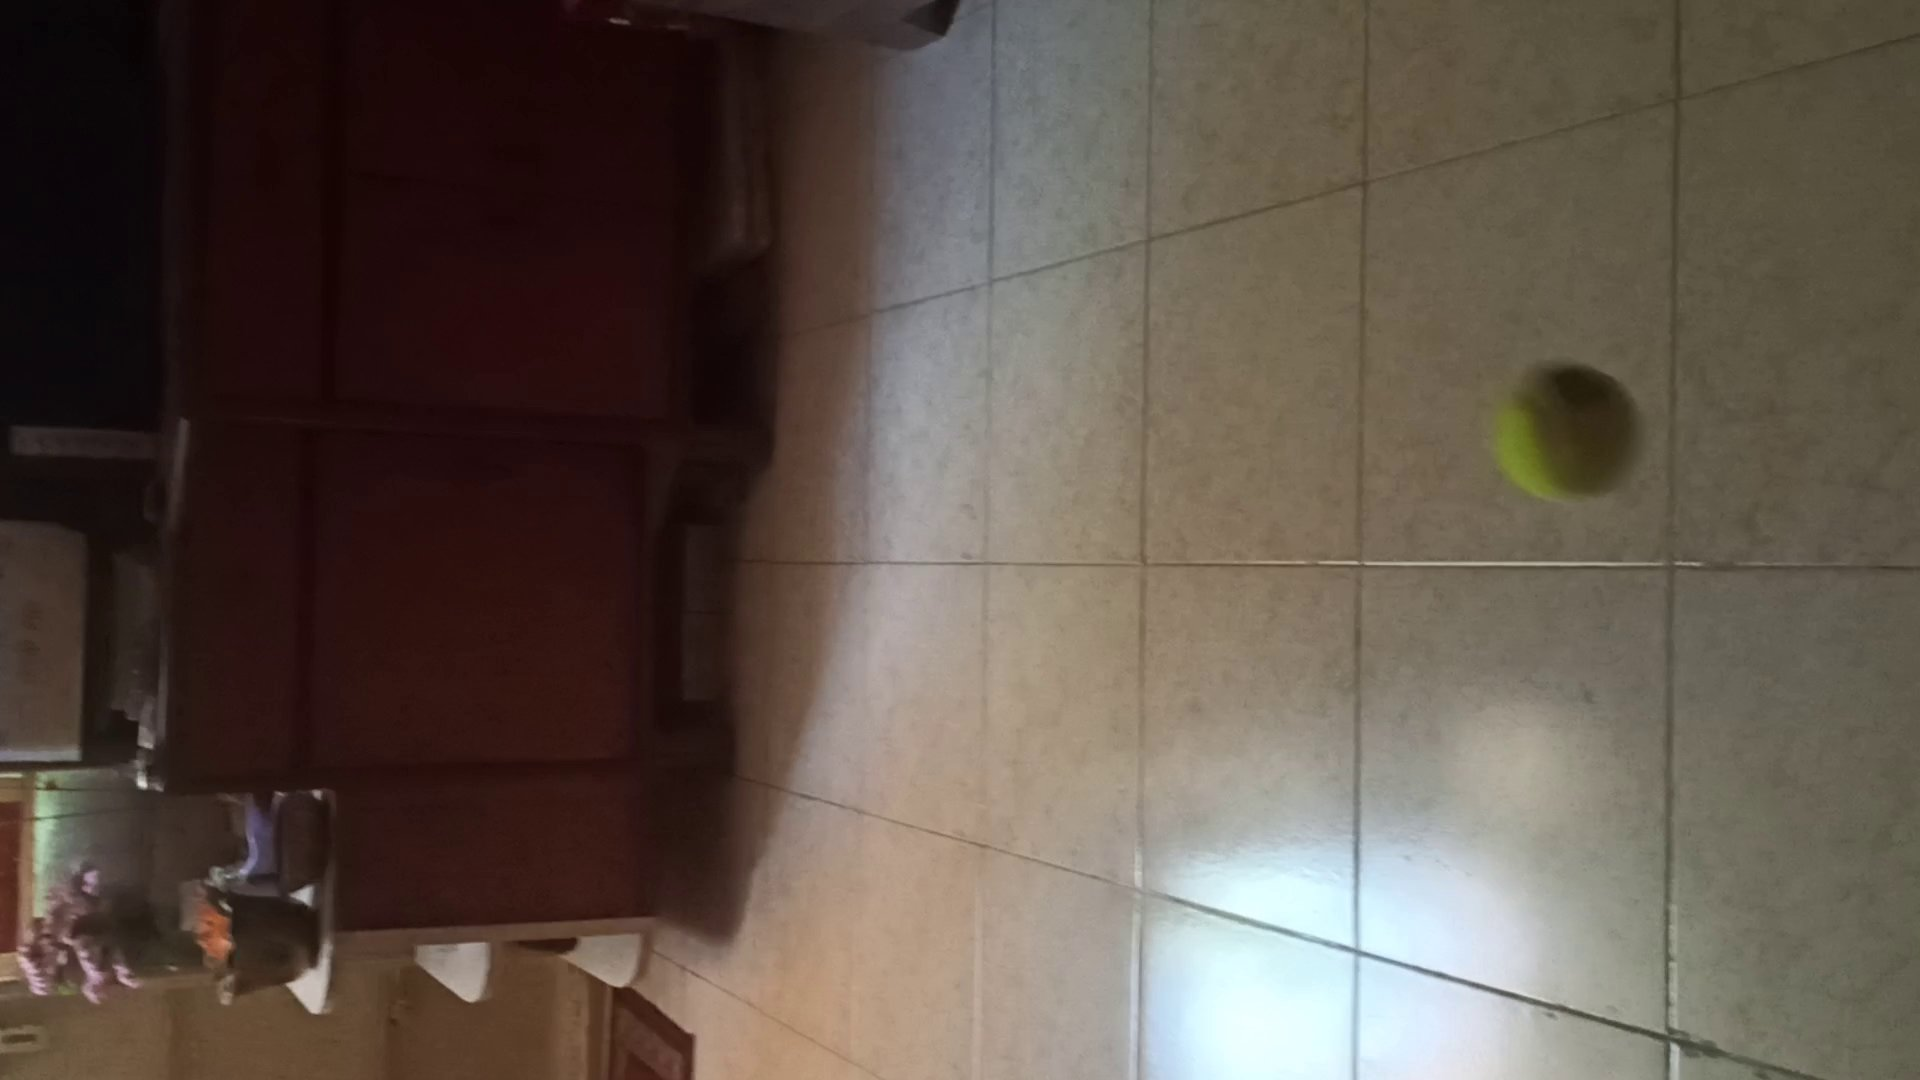Tennis-Ball: (1491, 359, 1640, 502)
